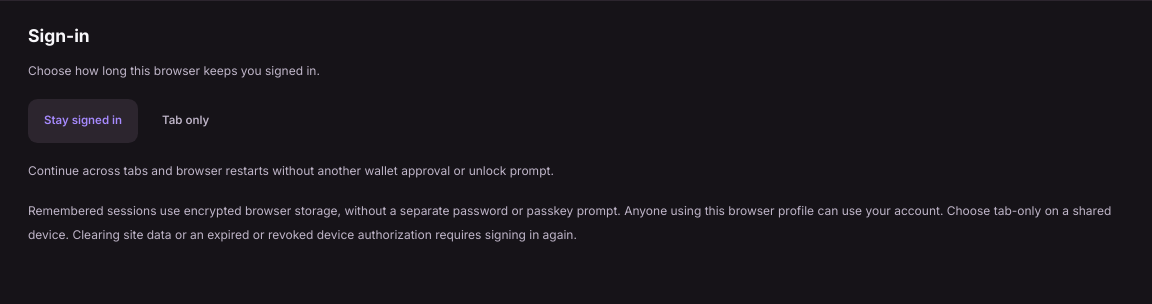
Scenario: session lifetime settings › does not mutate the vault if saving the preference fails
Click the button "Tab only": [186, 121] box [146, 99, 225, 143]
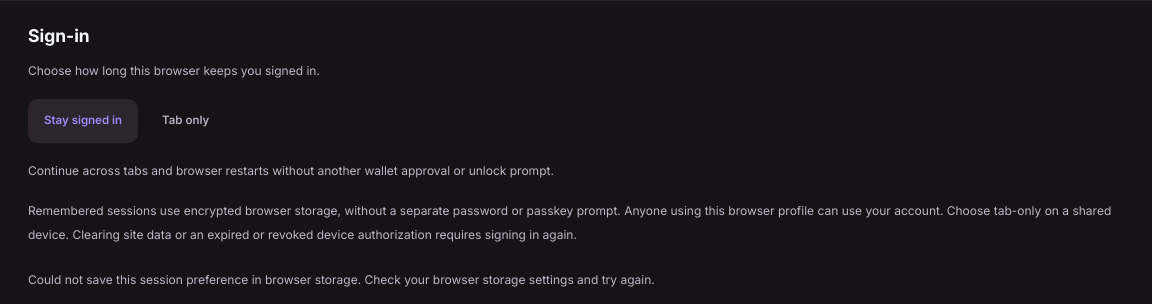
Result: the message shows "Could not save this session preference" at [28, 272, 655, 287]
